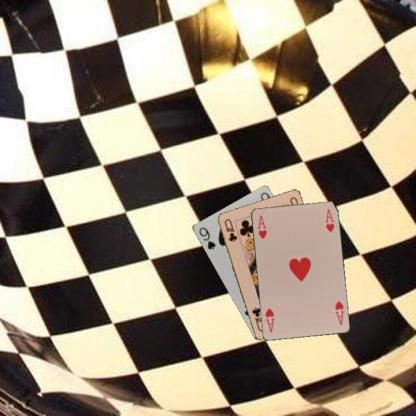9s: (196, 225, 217, 251)
Ah: (332, 298, 346, 326), (255, 212, 267, 240)
Qc: (221, 216, 238, 243)
